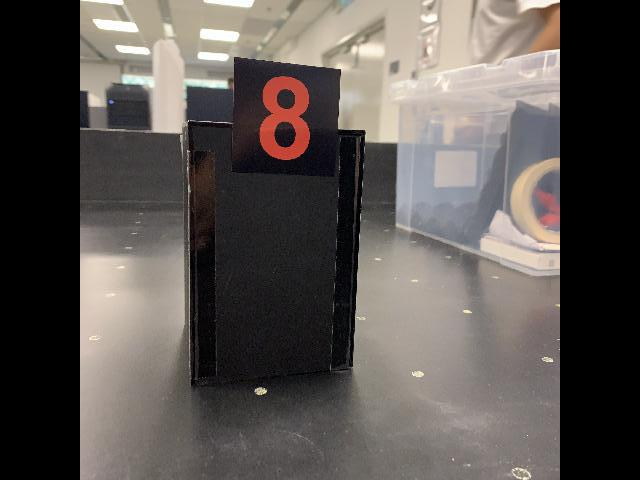eight: (231, 55, 343, 181)
